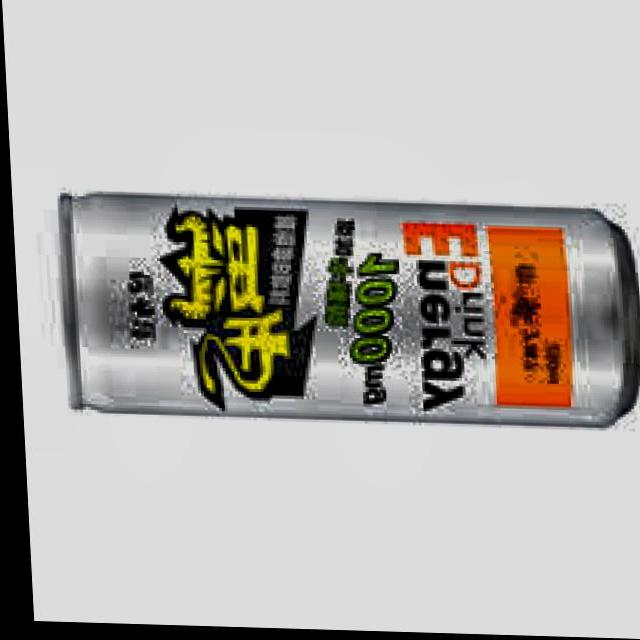Aluminum Can: (39, 188, 640, 442)
